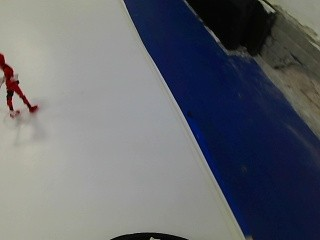pedestrian: (0, 46, 37, 122)
